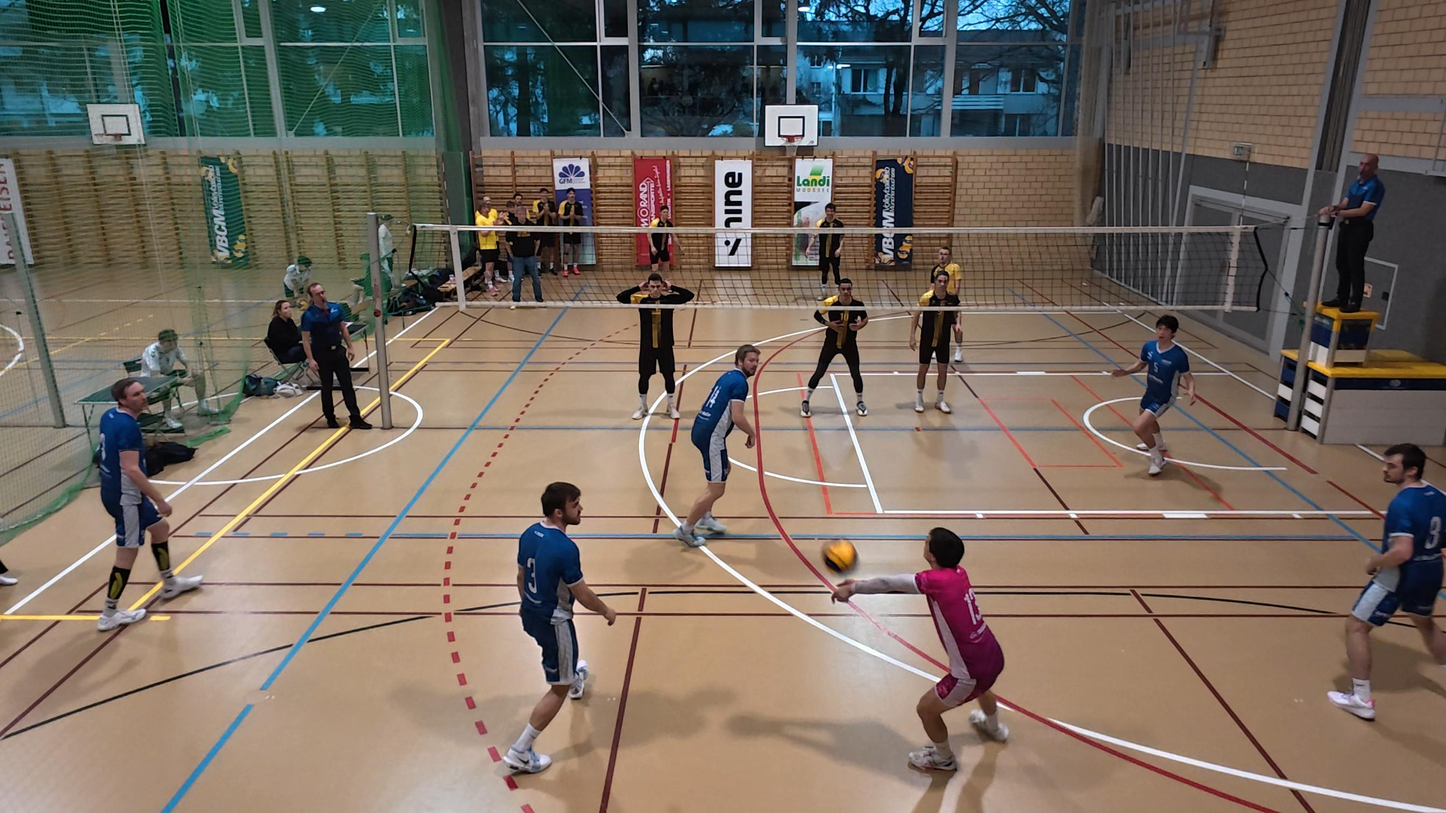ricezione: (826, 524, 1015, 774)
